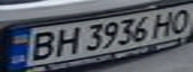3: (81, 21, 106, 52), (118, 17, 139, 46)
6: (130, 12, 157, 43)
9: (100, 19, 121, 48)
B: (18, 28, 63, 61)
H: (48, 25, 81, 56), (148, 9, 181, 38)
O: (166, 7, 193, 34)
